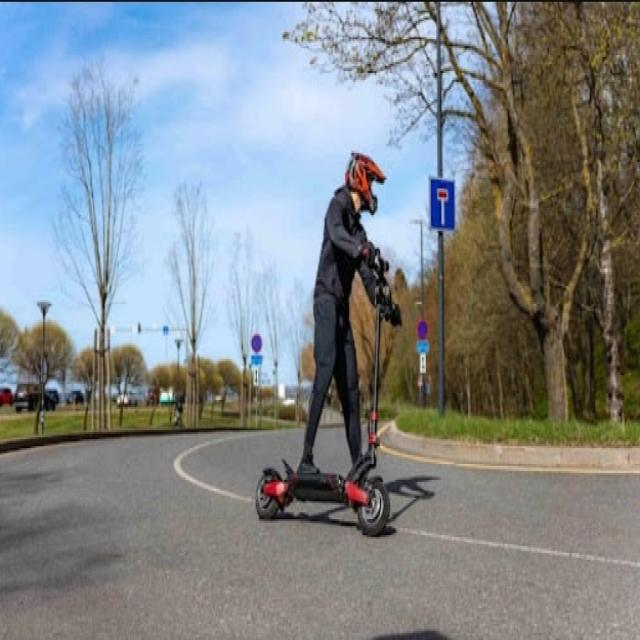helmet: (254, 106, 422, 578)
